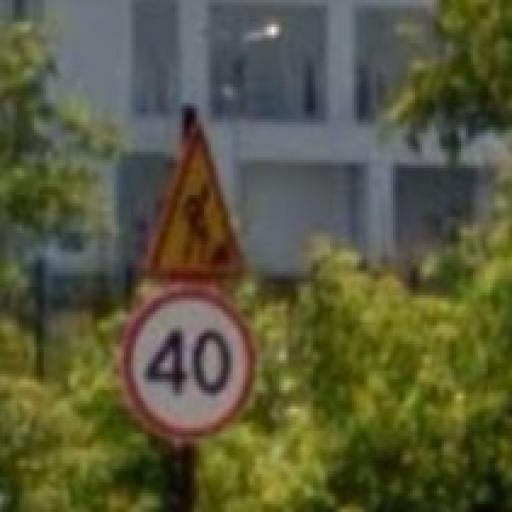traffic_sign: (125, 291, 256, 442), (144, 126, 246, 283)
